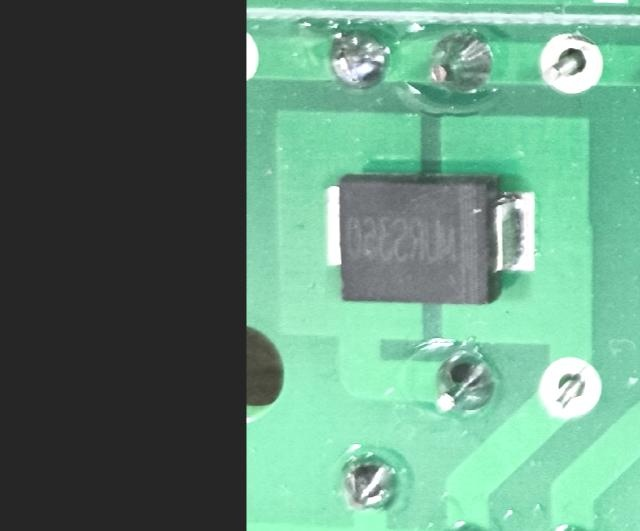diode: (322, 169, 538, 307)
